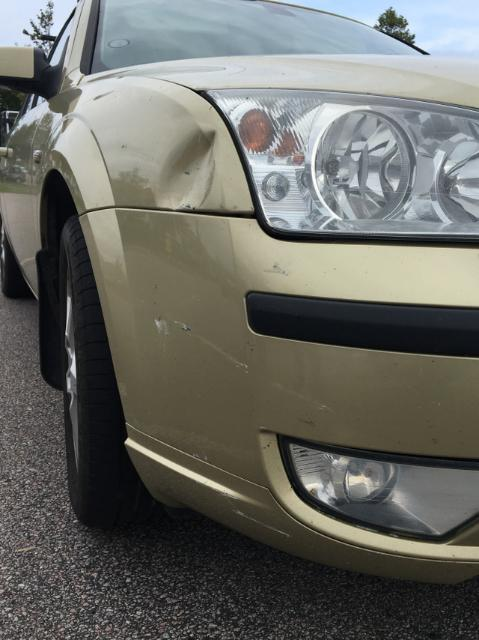Bumper: (136, 293, 426, 542)
Fender: (90, 90, 234, 220)
